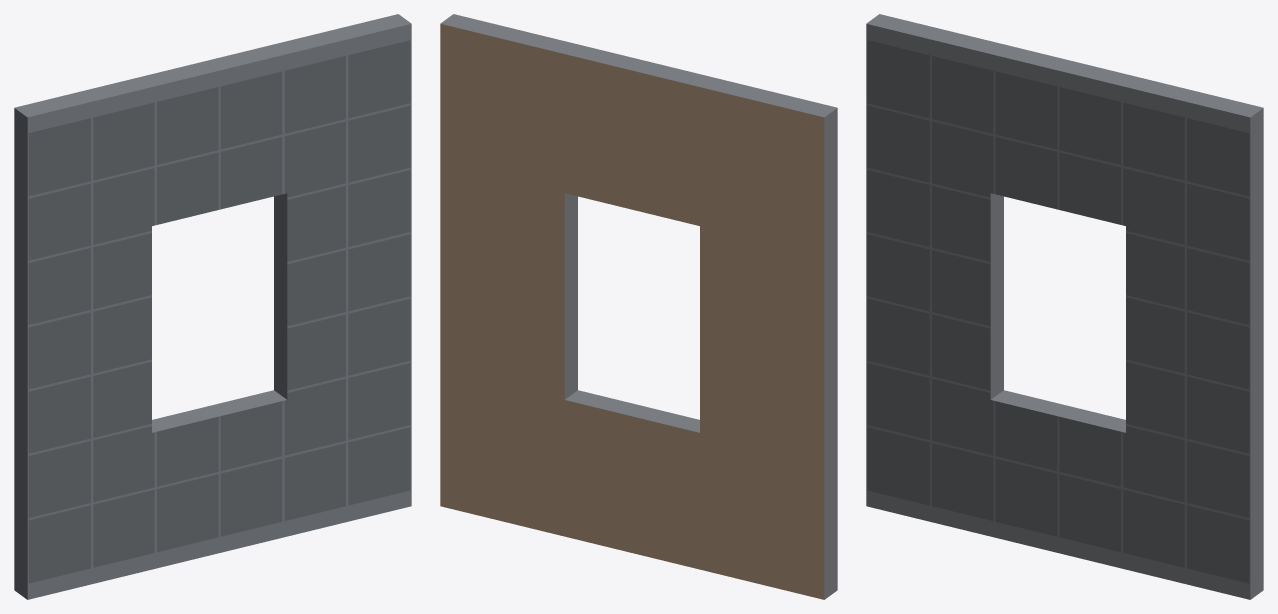
The model's file is Wall2_C7_03.fbx.
3 renders of one model, left to right at view 1: azimuth 30°, elevation 25°; view 2: azimuth 150°, elevation 25°; view 3: azimuth 330°, elevation 25°, orthographic.
Parts seen in each view (by area): view 1: Wall2_C7_03; view 2: Wall2_C7_03; view 3: Wall2_C7_03.
Boxes of the visible parts, <box> form: Wall2_C7_03: <box>14,14,411,599</box>; Wall2_C7_03: <box>440,14,837,599</box>; Wall2_C7_03: <box>866,14,1263,599</box>.
Bounding box in the file's own units: 250 × 300 × 15.
